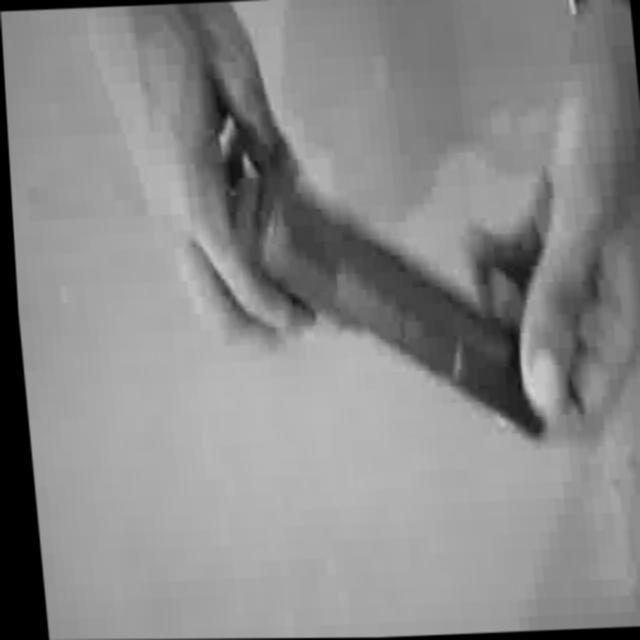weapon: (212, 98, 542, 448)
